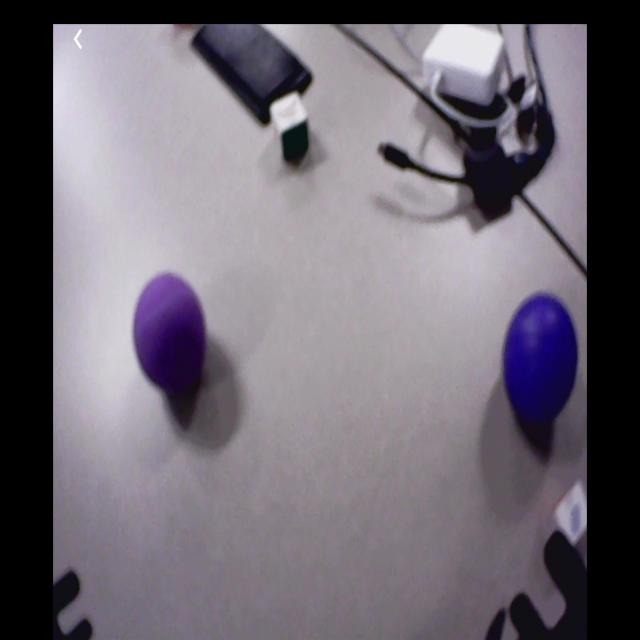ball: (503, 296, 580, 425), (133, 273, 208, 391)
